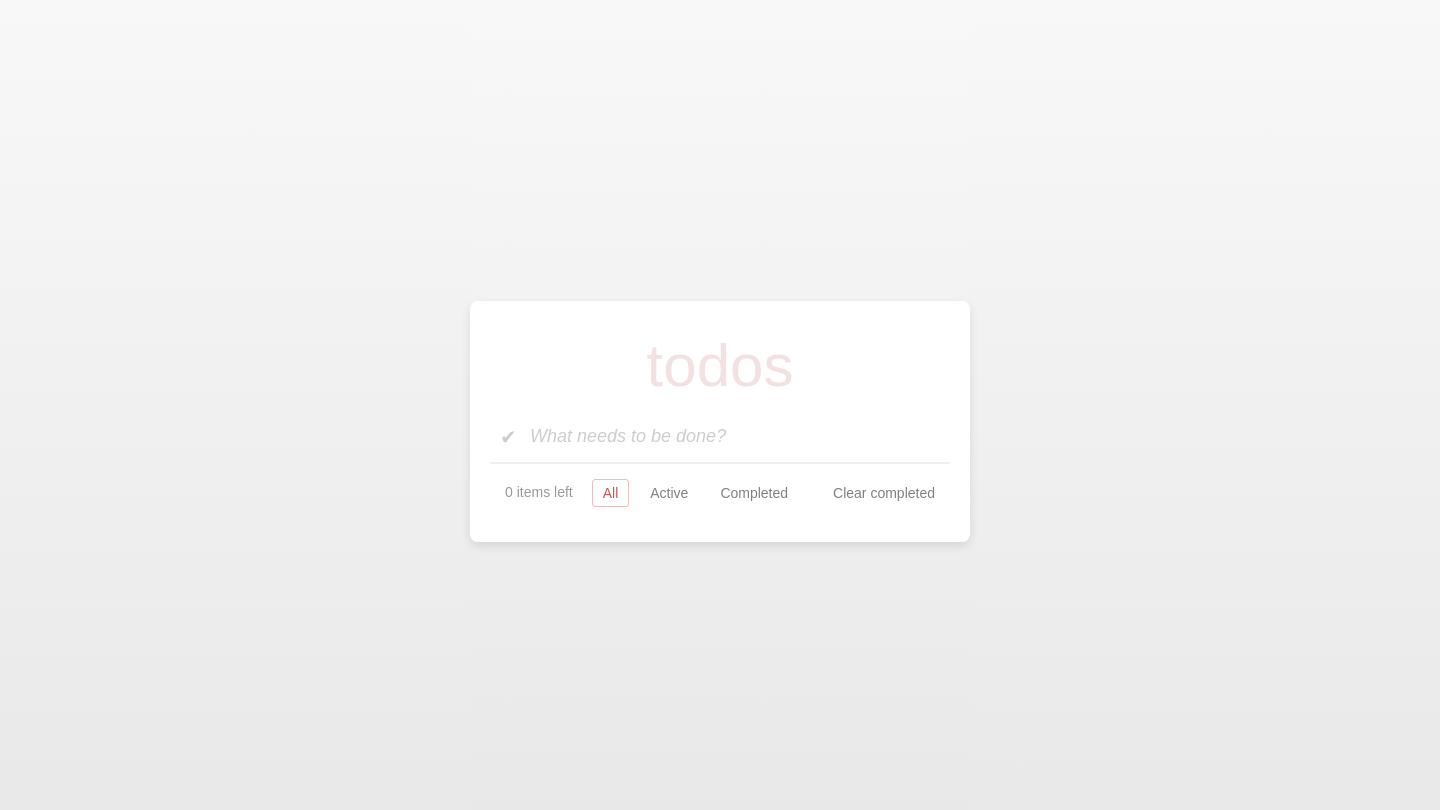
Scenario: Тестирование списка дел (Todo App) › удаляет завершенные задачи
The image size is (1440, 810).
Type "Удалить задачу" into the field with placeholder "What needs to be done?".
click(720, 436); type("Удалить задачу")  # box x1=490 y1=410 x2=950 y2=462
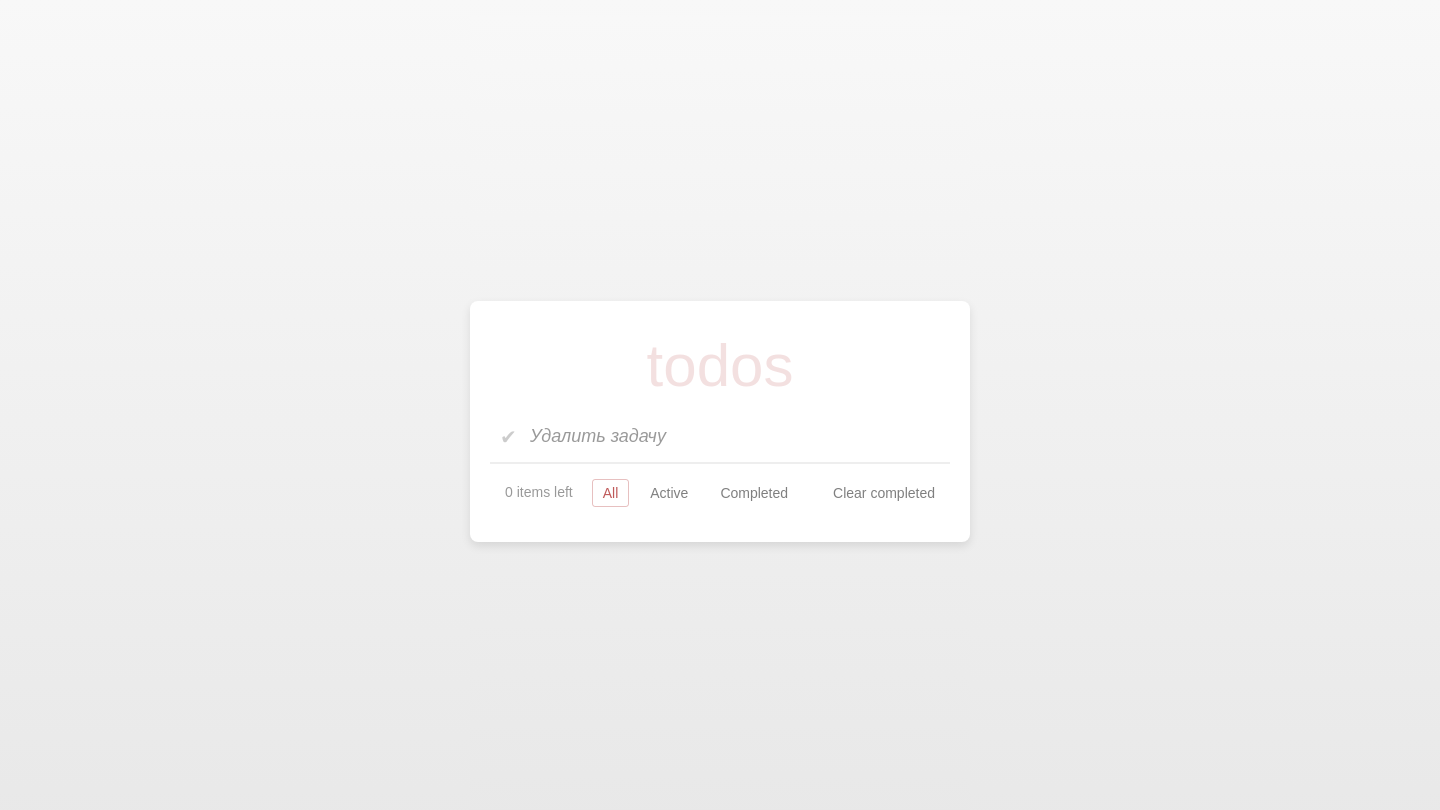
Press Enter in the field with placeholder "What needs to be done?", box x1=490 y1=410 x2=950 y2=462
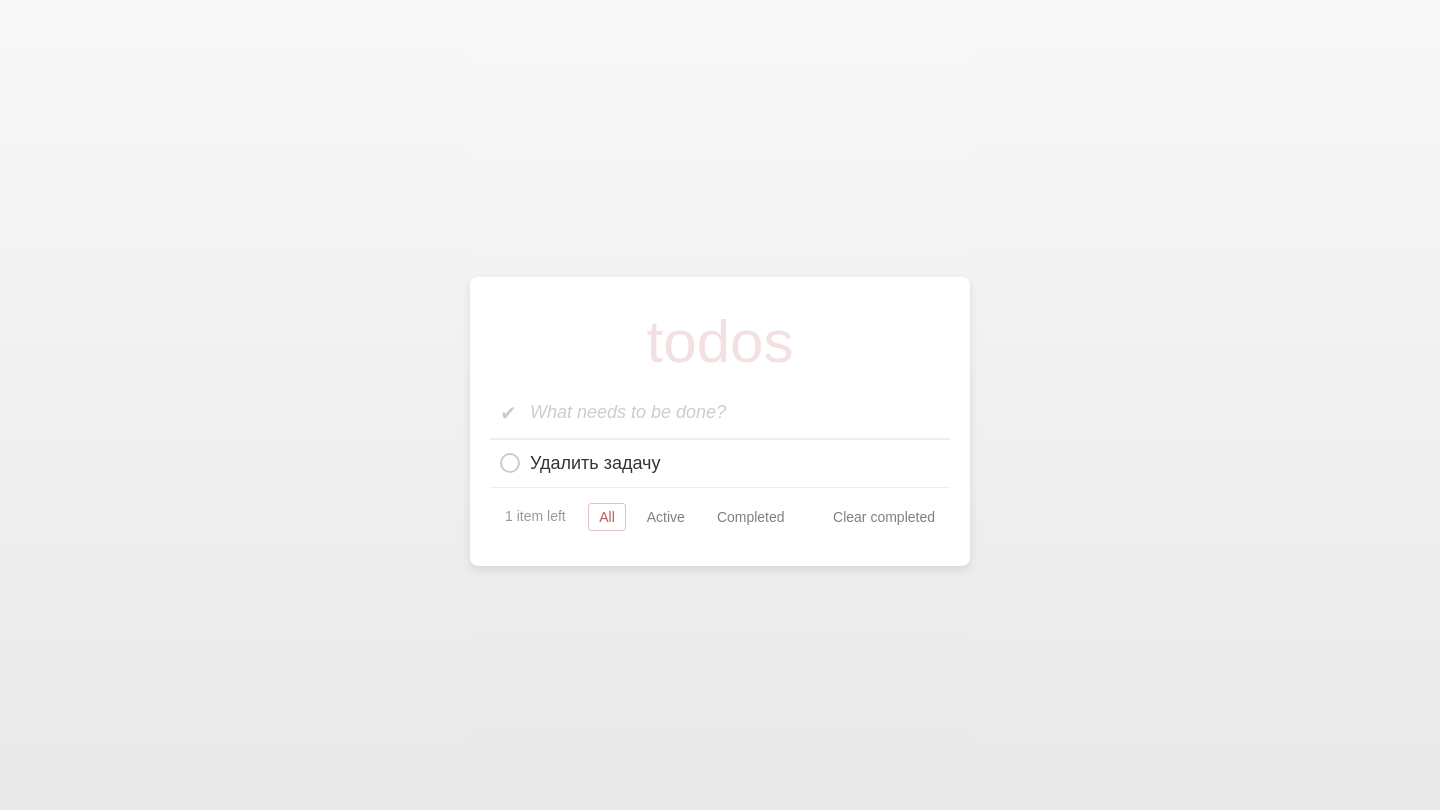
Click the checkbox.
click(510, 463)  # box x1=500 y1=453 x2=520 y2=473
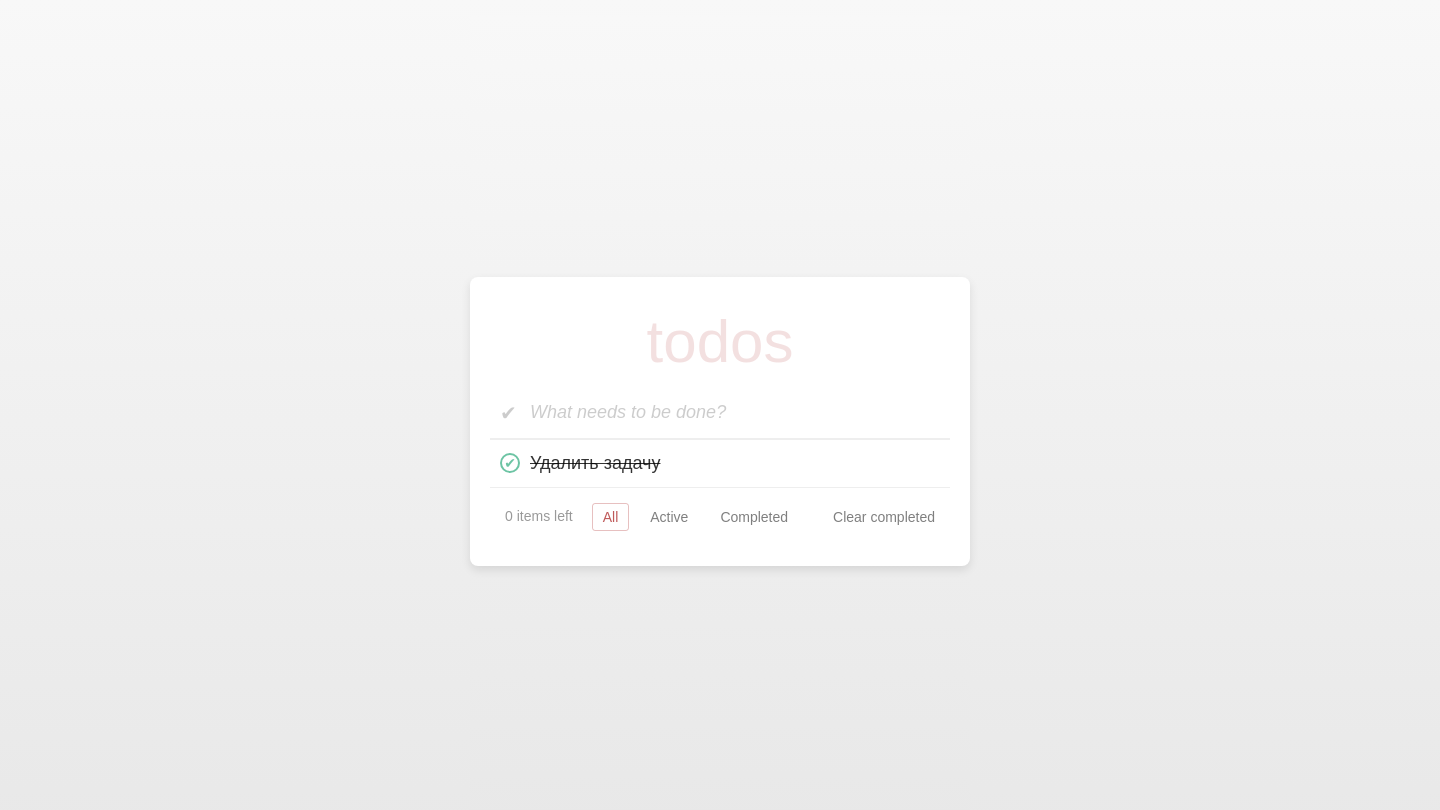
Click the button "Clear completed".
click(876, 516)  # box x1=818 y1=508 x2=935 y2=524
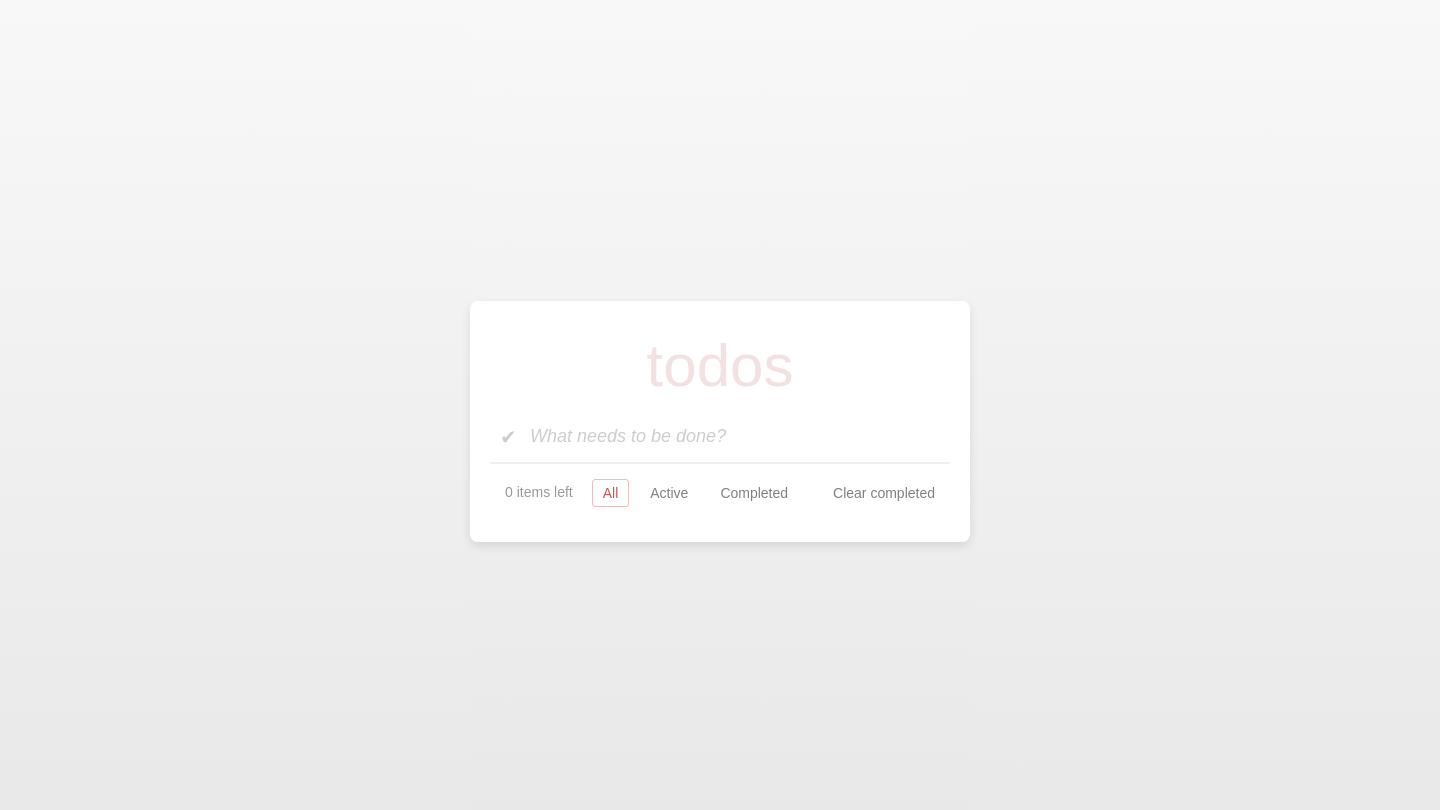
Check: the text "Удалить задачу" is gone
